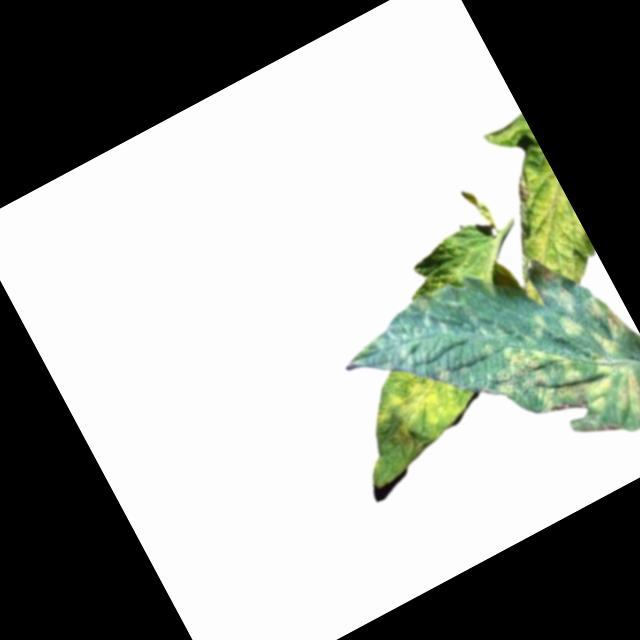Leaf_Mold: (468, 282, 640, 479), (480, 159, 609, 313), (364, 352, 474, 456)
